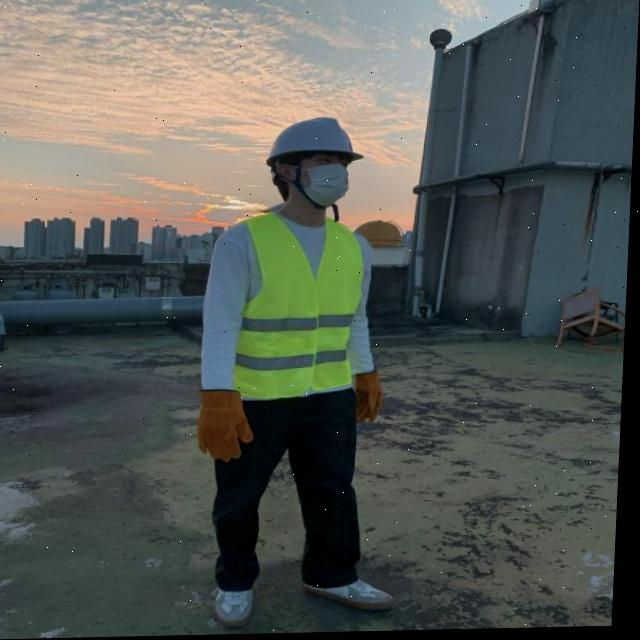Gloves: (200, 389, 261, 464), (356, 371, 389, 426)
Helmet: (267, 117, 368, 166)
Safety-Boot: (307, 578, 402, 613), (219, 588, 261, 629)
Safety-Vest: (236, 210, 369, 402)
